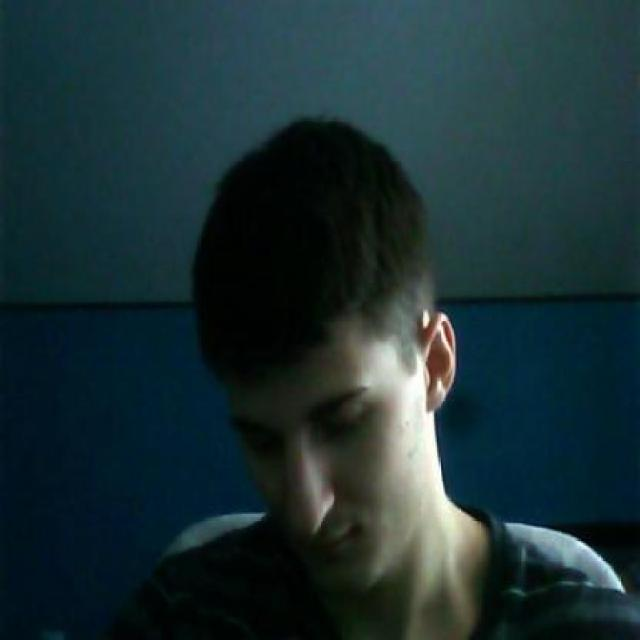drowsy: (322, 406, 367, 446)
